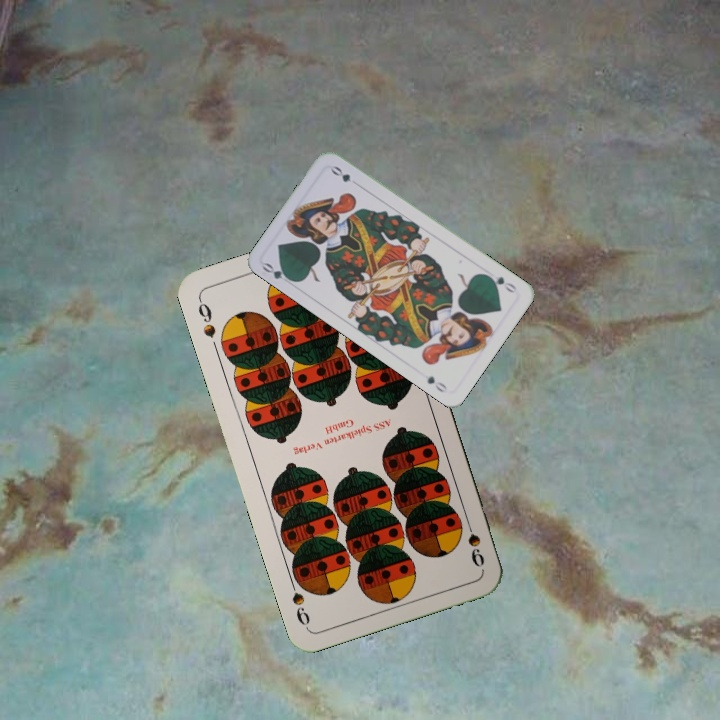GO: (258, 259, 297, 284), (482, 271, 519, 296)
S9: (461, 512, 488, 569), (194, 294, 219, 340)
